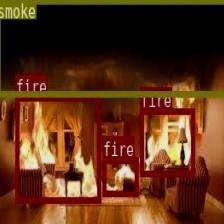fire: (14, 94, 100, 202), (140, 107, 194, 175), (102, 157, 137, 195)
smoke: (0, 0, 224, 96)
